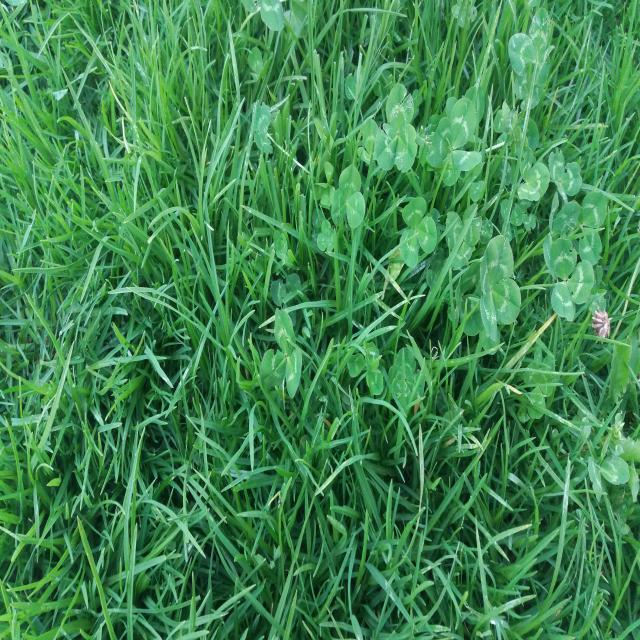Four Leaf Clover: (480, 235, 521, 342)
